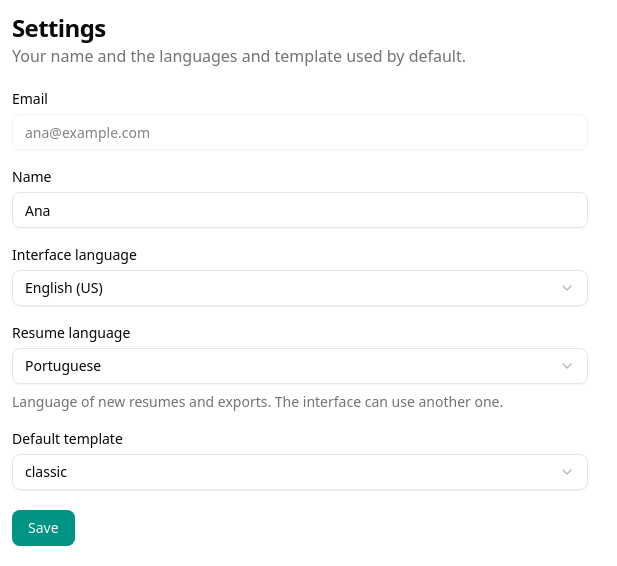
Test case: SettingsPage › switches the interface to the saved language
The image size is (617, 566).
Expected: the field labelled "Name" is shown, [12,192,588,228]
Step 1. Click the dropdown named "Interface language" → (64, 288), box [12,270,588,306]
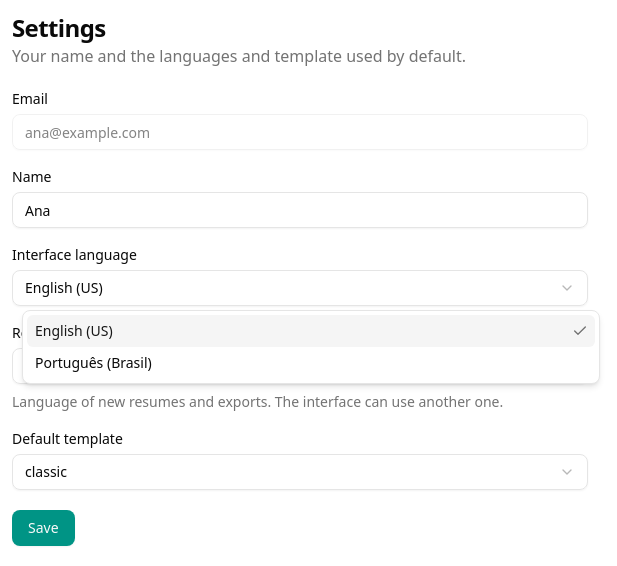
Step 2. Click the option "Português (Brasil)" → (93, 362), box [35,353,152,372]
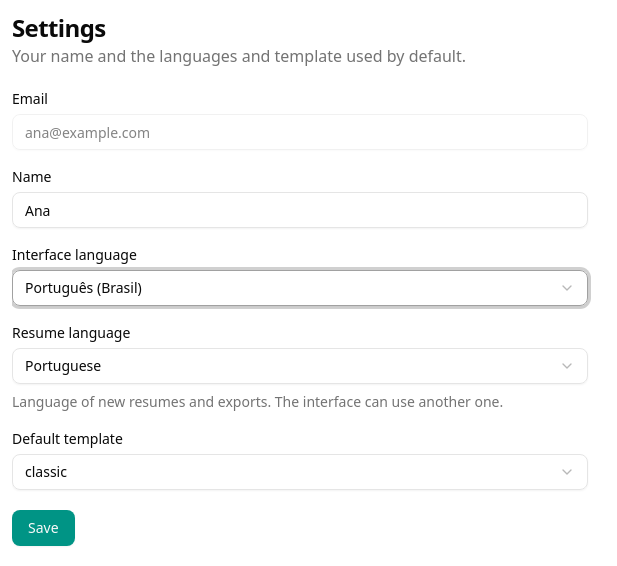
Step 3. Click the button "Save" → (43, 528), box [12,510,75,546]
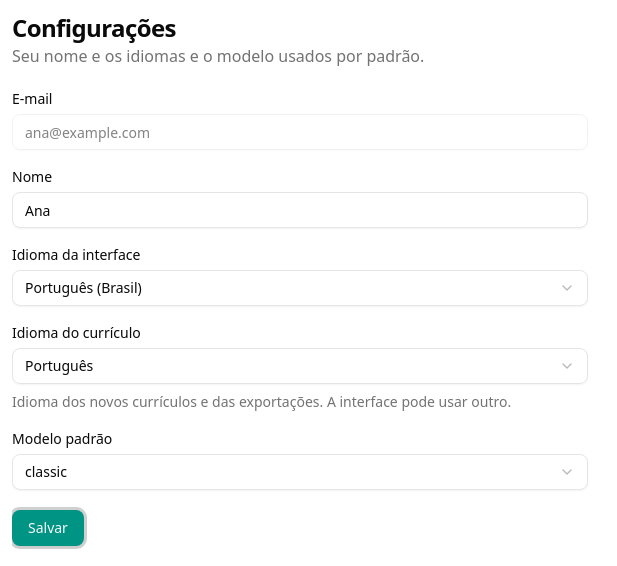
Now the heading "Configurações" is shown, box [12,11,176,44]
